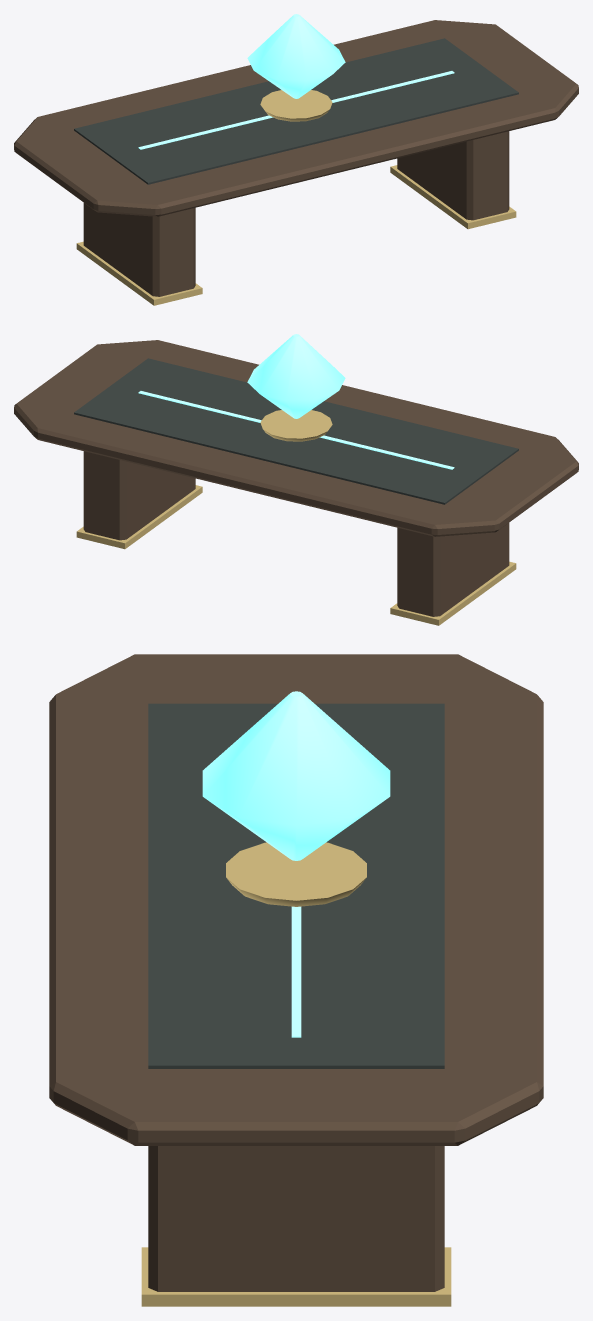
Rendered from ex_table.glb.
3 renders of one model, top to bottom at view 1: azimuth 30°, elevation 25°; view 2: azimuth 150°, elevation 25°; view 3: azimuth 270°, elevation 25°, orthographic. The views are drawn at different scales.
Parts seen in each view (by area): view 1: ex_table; view 2: ex_table; view 3: ex_table.
Part boxes in pixels (bbox=[...]): ex_table: bbox=[14, 14, 578, 305]; ex_table: bbox=[14, 334, 578, 625]; ex_table: bbox=[49, 654, 543, 1306].
Size of the model in its own units: 3.4 by 1.46 by 1.5.
